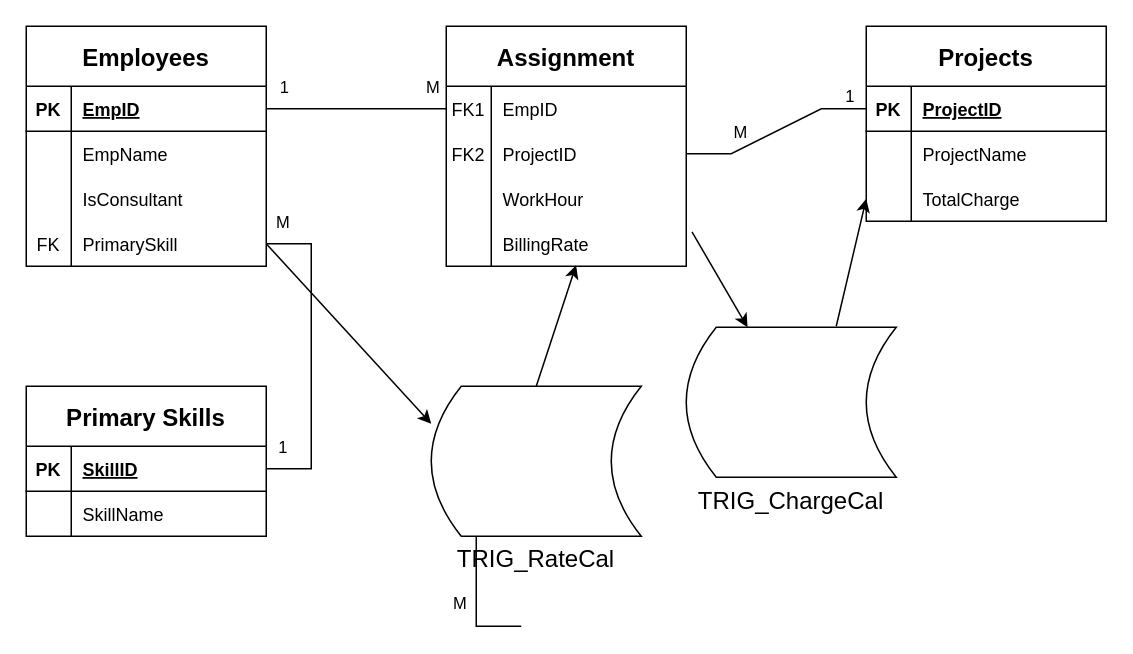
This 1133x654 diagram has some shape labels left out. The shapes that lost their labels are listed below. From the top down, each one's centre as x and y in pixels, then its label:
(790,401): Sum of the products of each consultant's BillingRate and their WorkHour)
(535,460): Calculate BillingRate based on how well the consultant's skill fits the project
